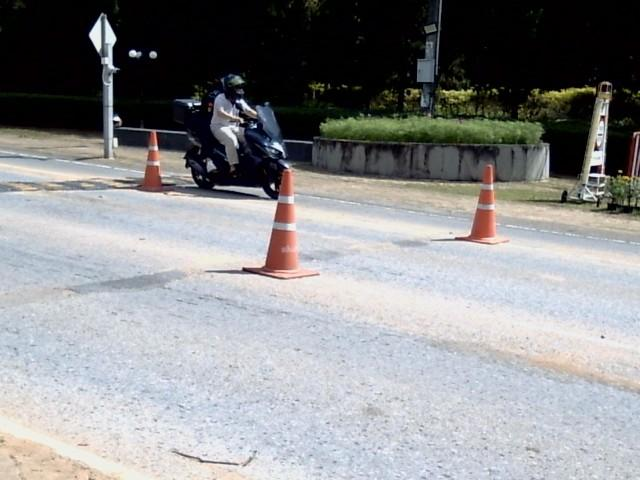helmet: (223, 75, 244, 97)
motor: (174, 99, 289, 198)
person: (210, 74, 257, 174)
